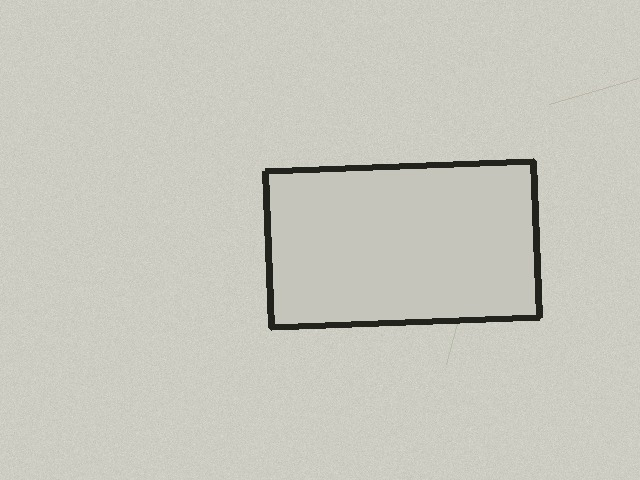parking_area: (265, 161, 539, 327)
